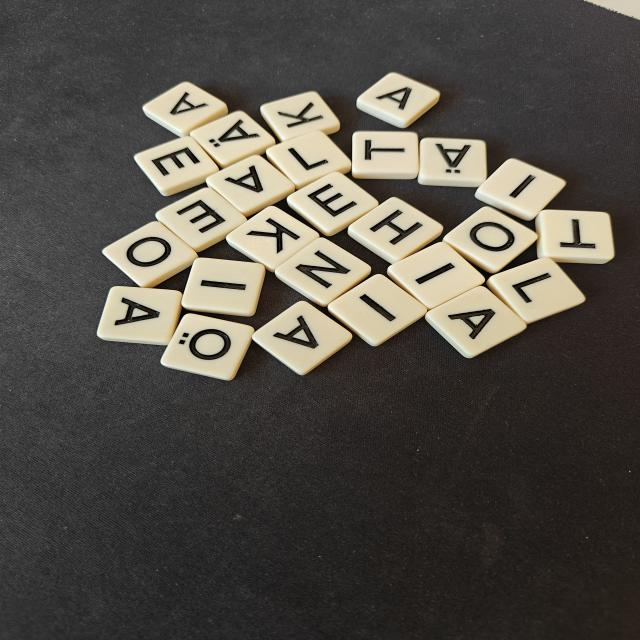a: (252, 301, 352, 375), (425, 286, 526, 358), (206, 155, 295, 217), (97, 286, 181, 345), (356, 72, 440, 128), (143, 82, 228, 137)
a_dot: (191, 111, 275, 168), (417, 138, 487, 187)
e: (287, 172, 379, 236), (156, 188, 246, 252), (134, 137, 218, 196)
h: (348, 197, 443, 263)
i: (328, 275, 426, 346), (387, 242, 485, 310), (475, 158, 566, 220), (182, 258, 265, 316)
k: (227, 206, 319, 272), (260, 91, 340, 142)
l: (487, 258, 585, 324), (266, 132, 351, 189)
n: (275, 238, 371, 307)
o: (102, 221, 198, 288), (442, 206, 536, 274)
o_dot: (161, 313, 254, 380)
t: (535, 210, 615, 264), (351, 131, 419, 179)
